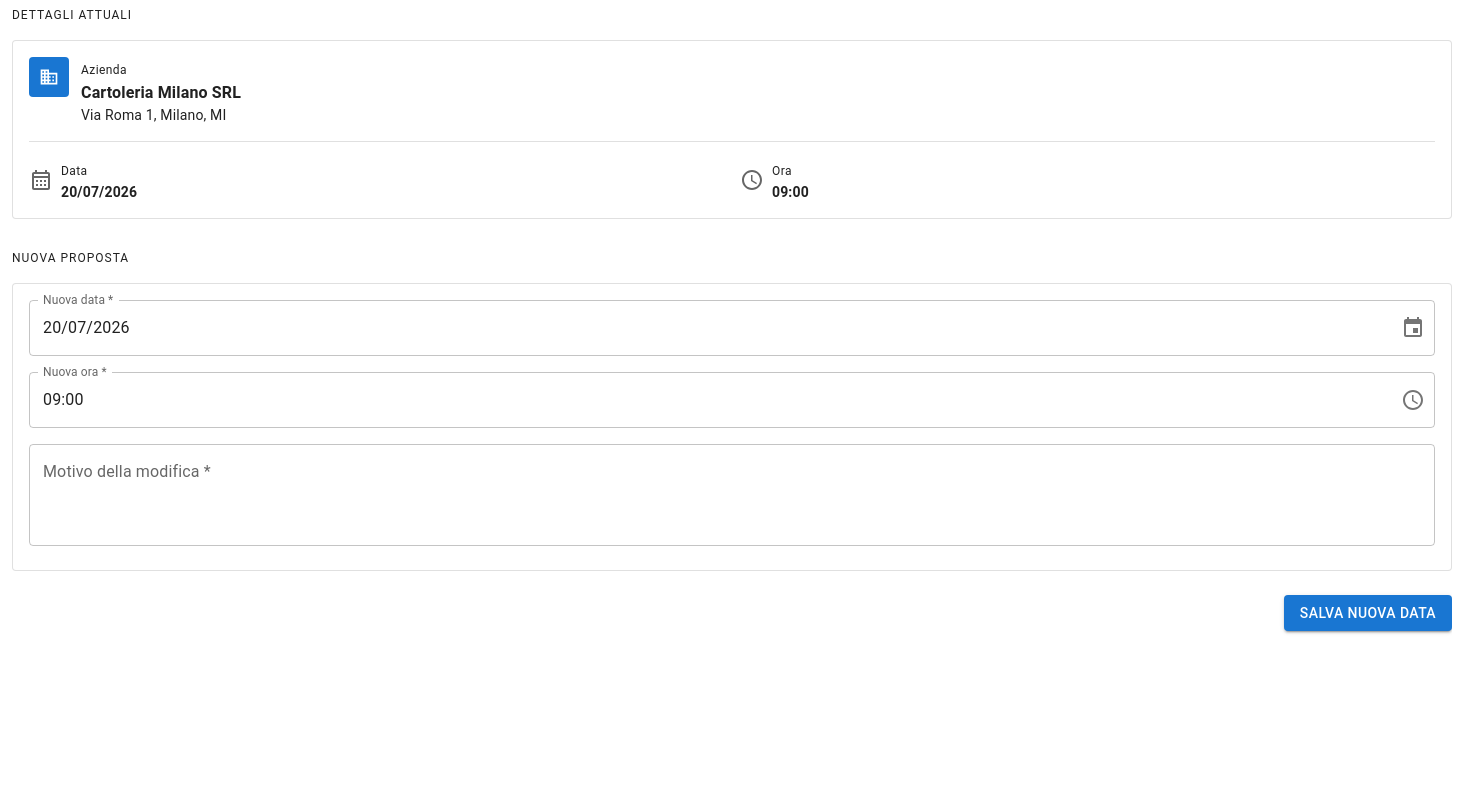
Scenario: RescheduleForm › requires a reason before submit
What coordinates should you click on to do the following:
click the button "Salva nuova data"
I would click on:
 (1368, 613)
Its box is [1284,595,1452,631].
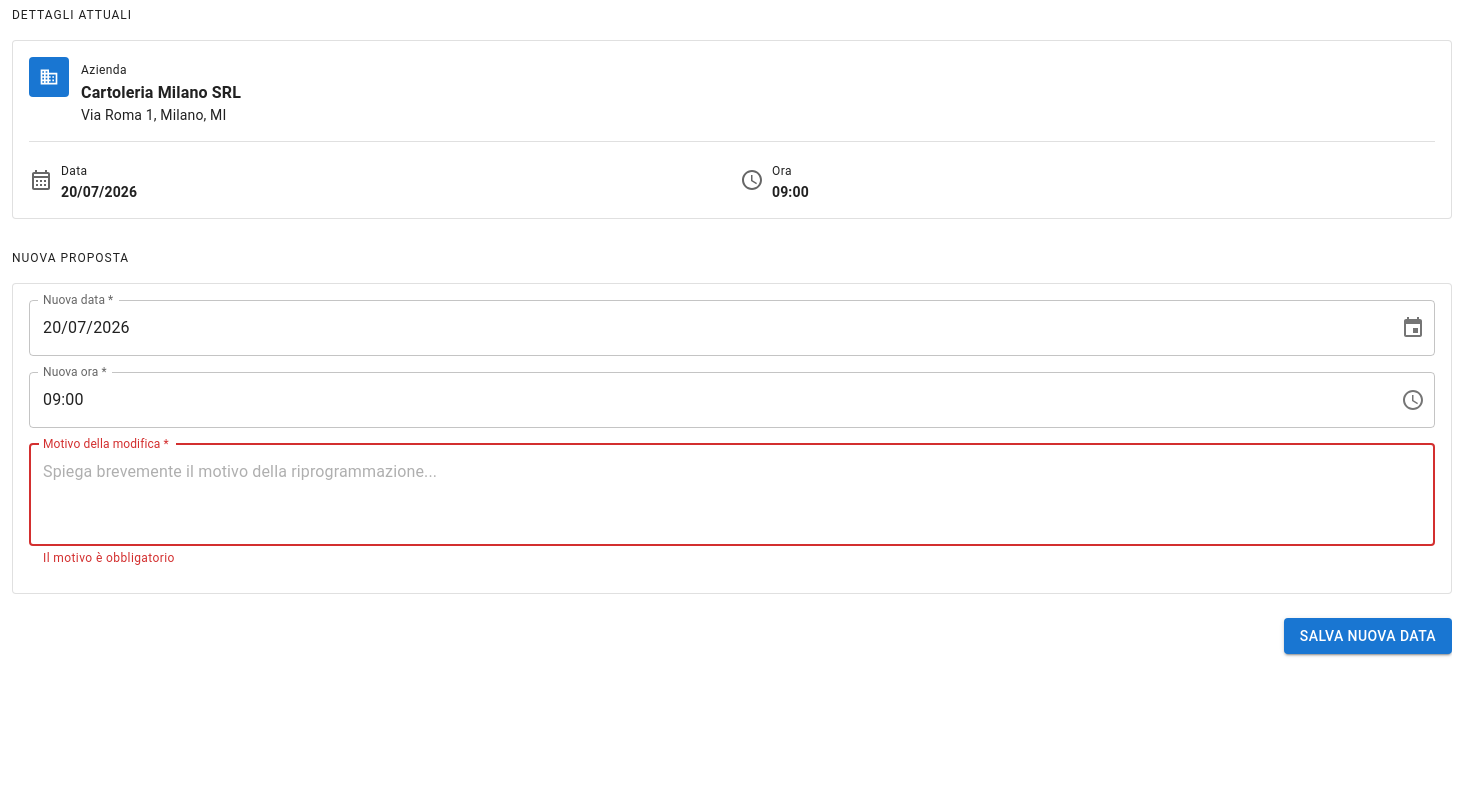
Check: the text "Il motivo è obbligatorio" is shown, box [43,551,175,565]
